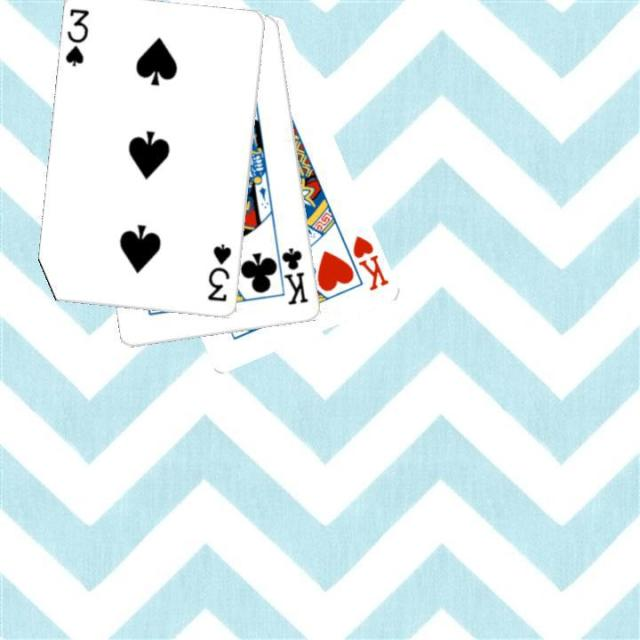3S: (204, 241, 234, 304), (62, 4, 91, 68)
KC: (271, 240, 310, 307)
KH: (349, 232, 391, 293)
